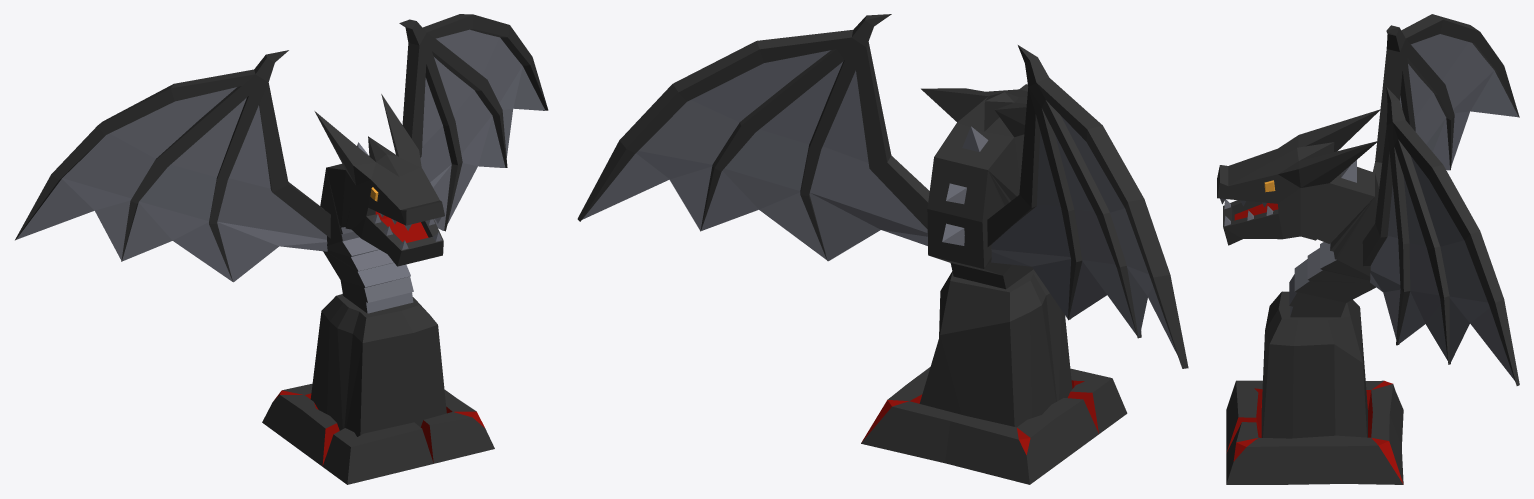
The model's file is Hell Dragon Statue 02.FBX.
3 views of the same model, side by side, from view 1: azimuth 30°, elevation 25°; view 2: azimuth 150°, elevation 25°; view 3: azimuth 270°, elevation 25° (orthographic). The views are drawn at different scales.
Visible parts, largest first — view 1: Hell Dragon Statue 02; view 2: Hell Dragon Statue 02; view 3: Hell Dragon Statue 02.
Boxes of the visible parts, x1,y1,x2,y2 form: Hell Dragon Statue 02: [15, 14, 548, 484]; Hell Dragon Statue 02: [577, 14, 1188, 484]; Hell Dragon Statue 02: [1217, 14, 1519, 484].
Size of the model in its own units: 1284 by 860 by 607.
